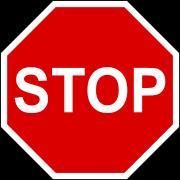Stop: (6, 5, 178, 170)
